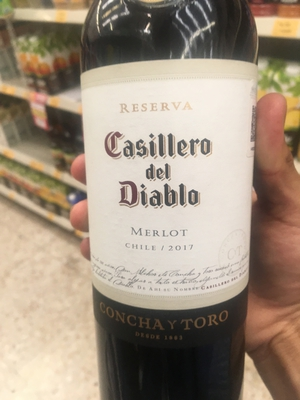casillero del diablo merlot: (76, 3, 255, 400)
